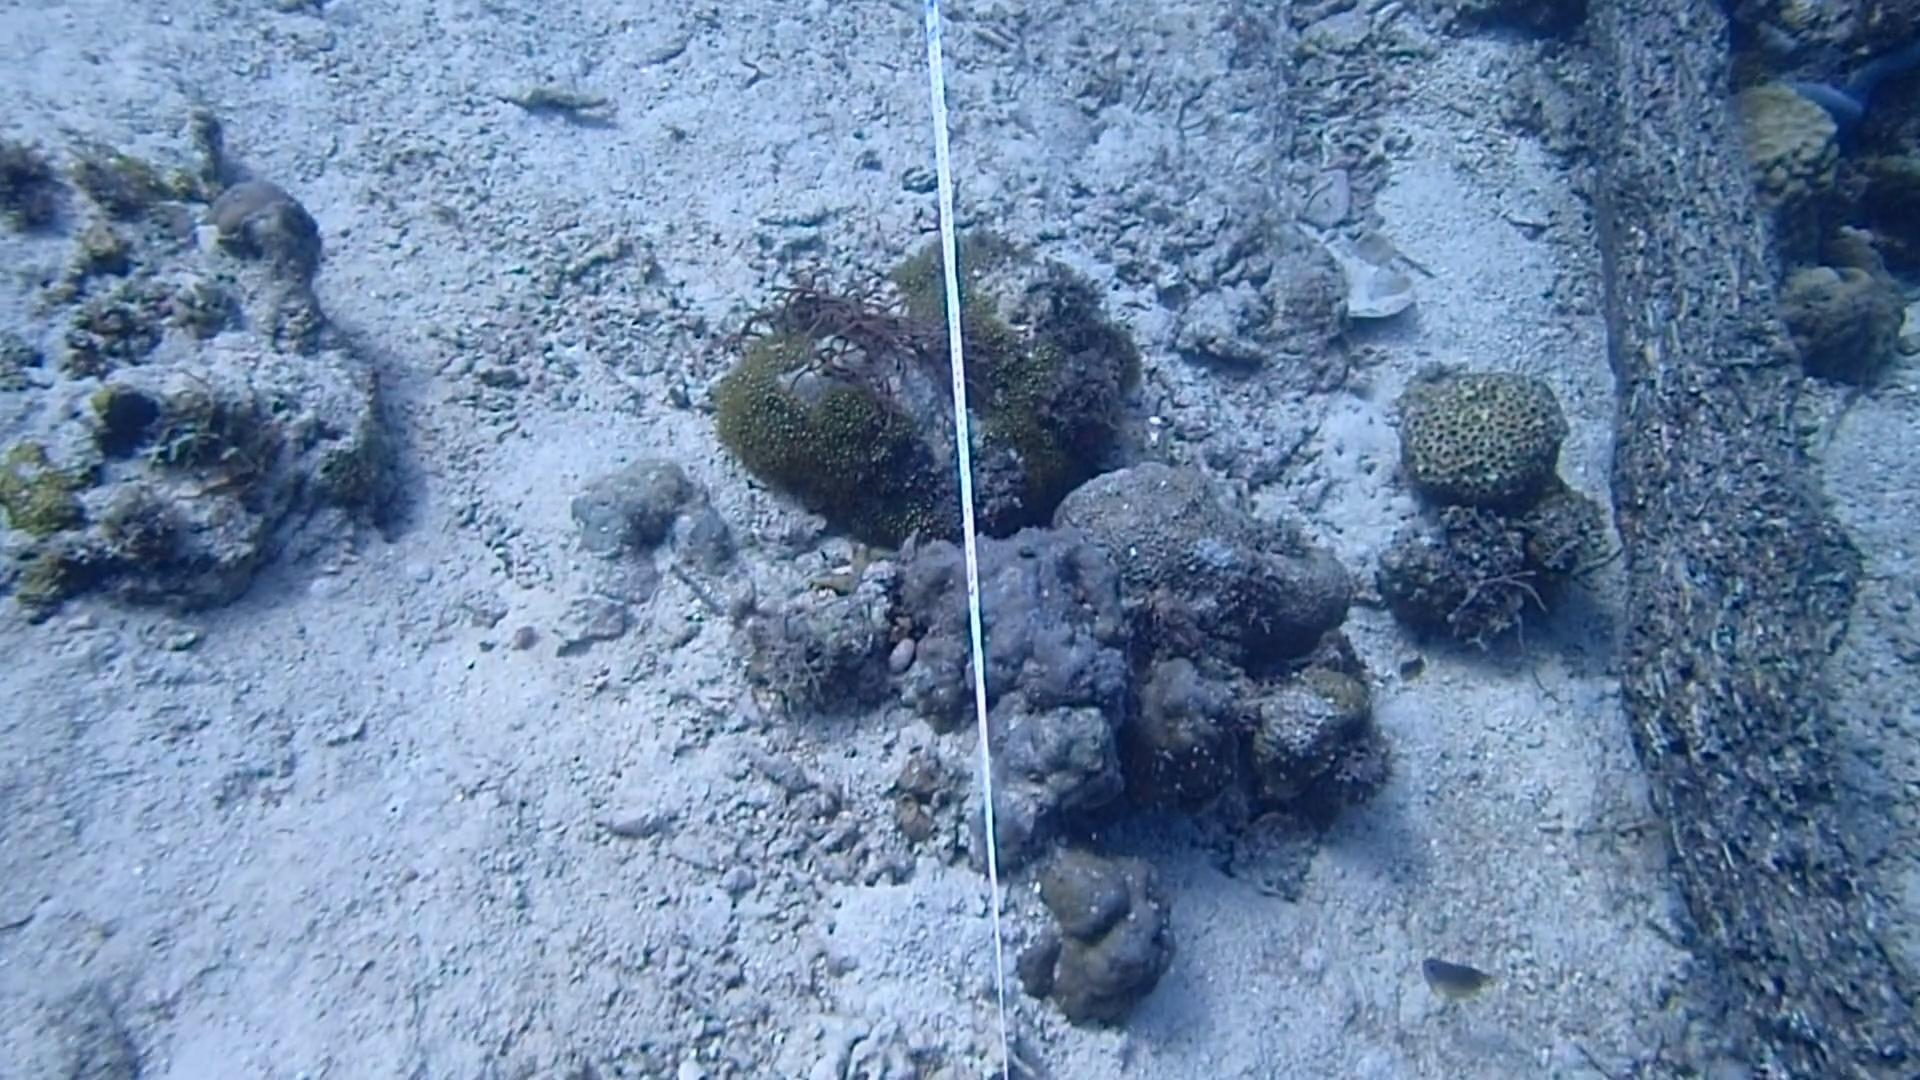Light Fish: (1407, 942, 1502, 1015)
